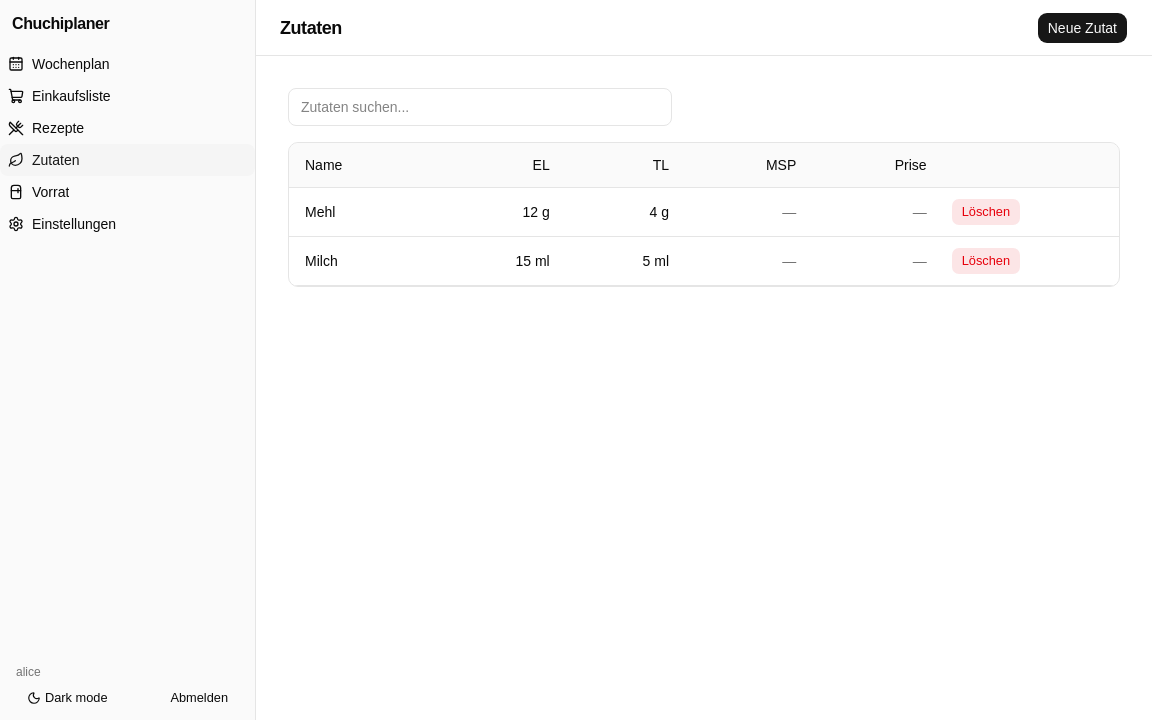
IngredientsPage › search input filters ingredients by name substring
The image size is (1152, 720).
expect the text "Mehl" is shown: met, box [305,204,335,220]
Type "Mil" into the field with placeholder "Zutaten suchen..." at (480, 107), box [288,88,672,126]
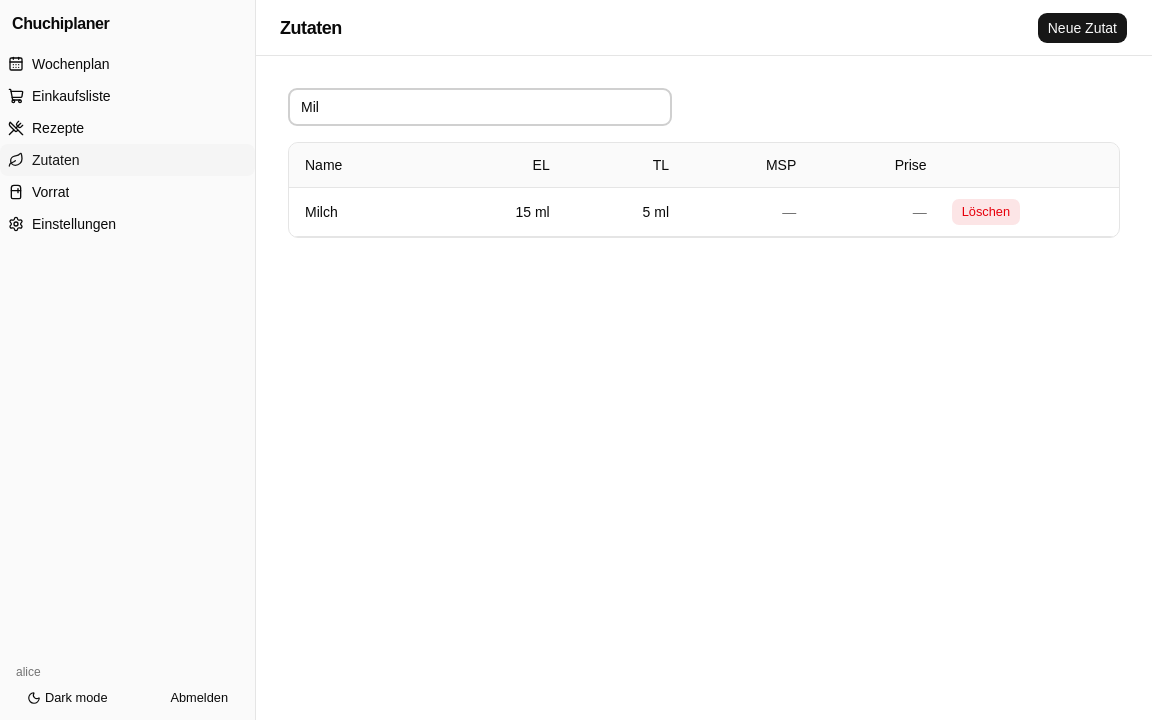
expect the text "Milch" is shown: met, box [305,204,338,220]
expect the text "Mehl" is gone: met
